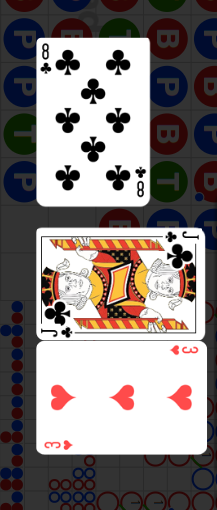3H: (44, 438, 76, 450)
8C: (134, 164, 148, 198), (41, 41, 54, 75)
